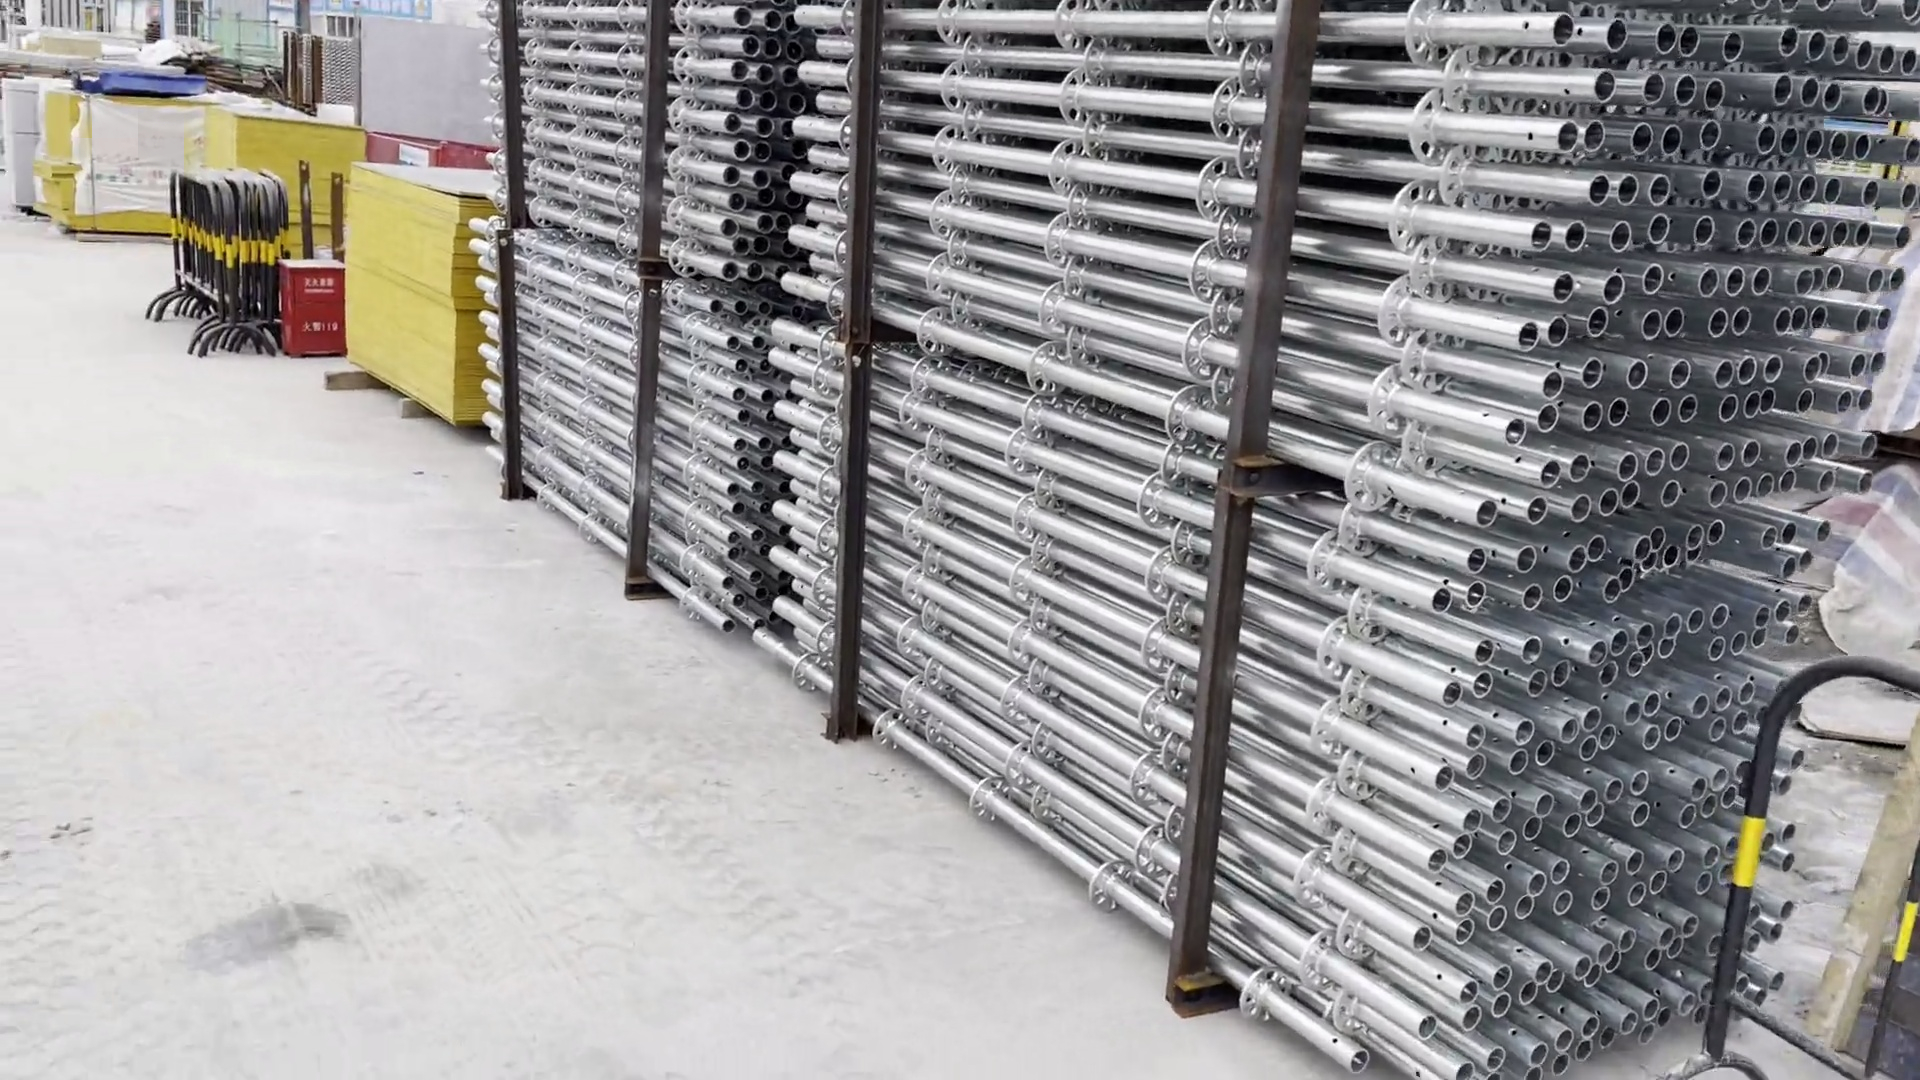board: (334, 145, 512, 439), (37, 75, 233, 233), (222, 88, 367, 258)
scaffold: (774, 1, 1920, 1080), (501, 1, 781, 661)
